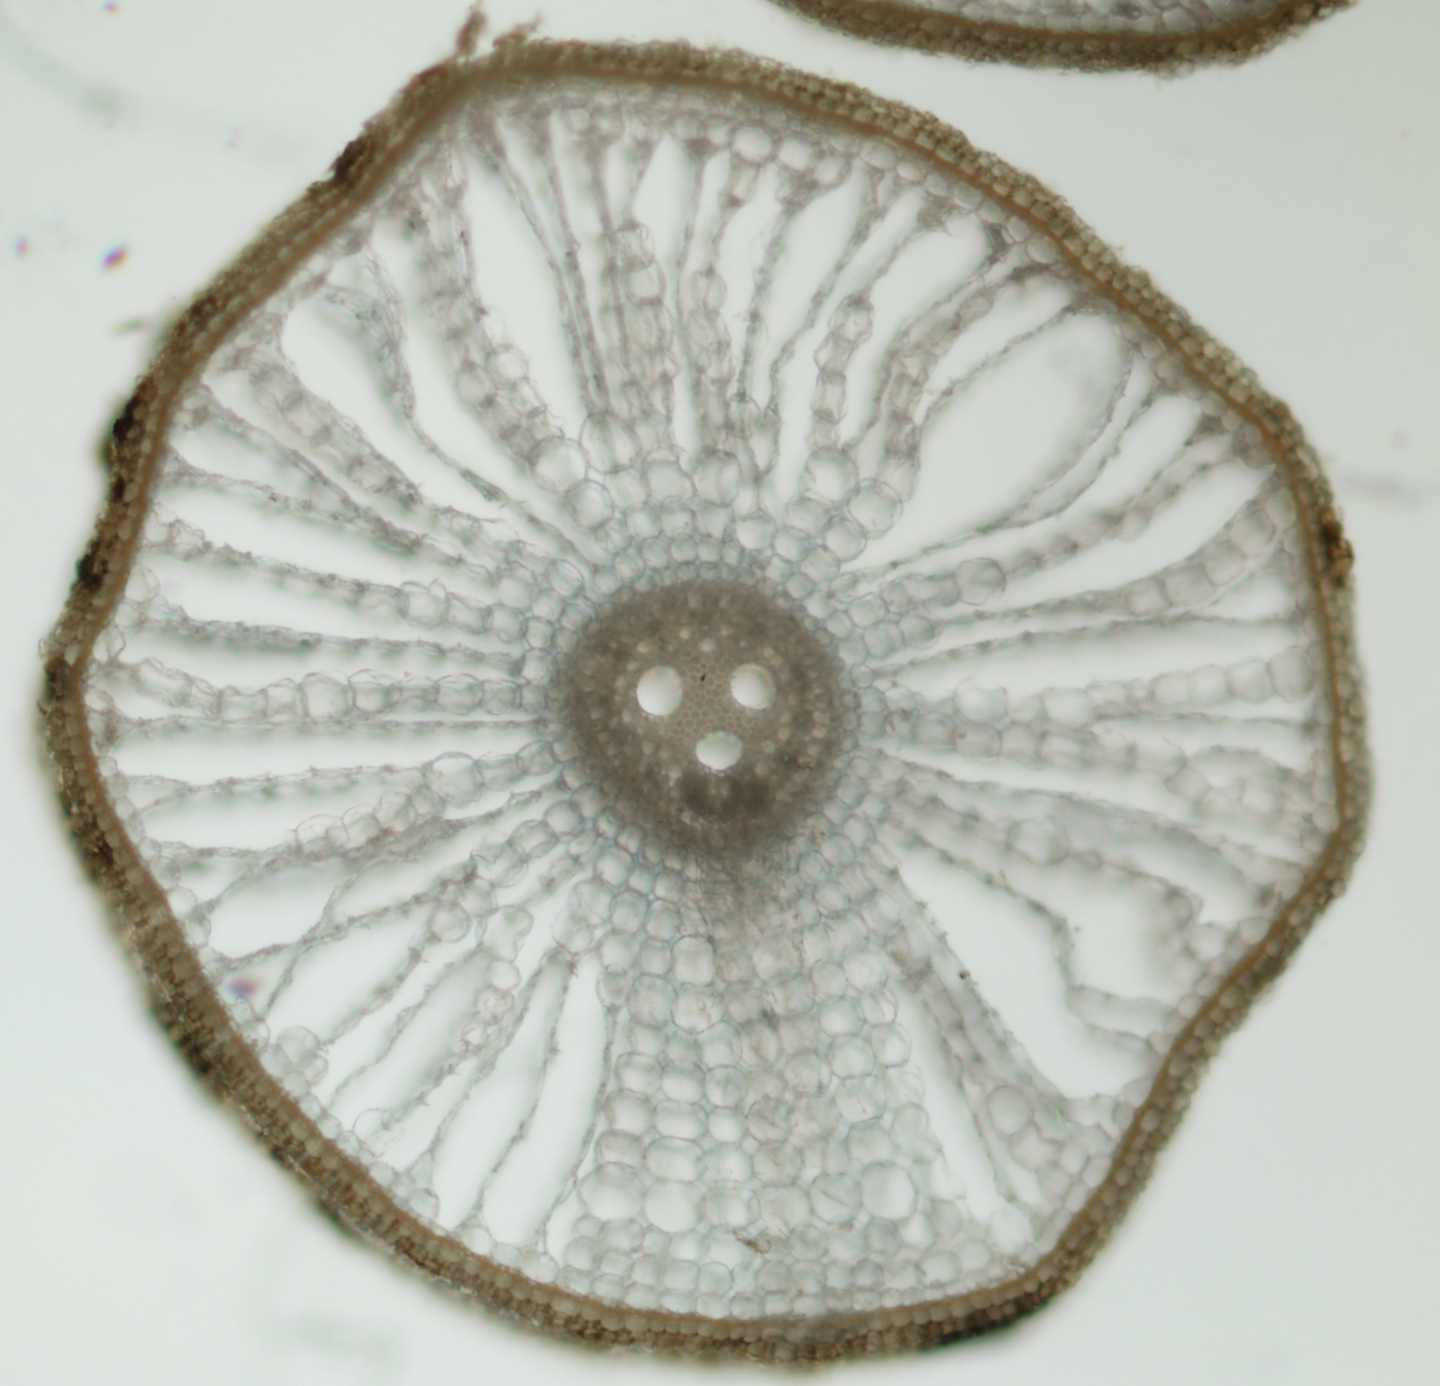lm: (636, 663, 683, 716), (730, 663, 777, 708), (696, 732, 743, 770)
